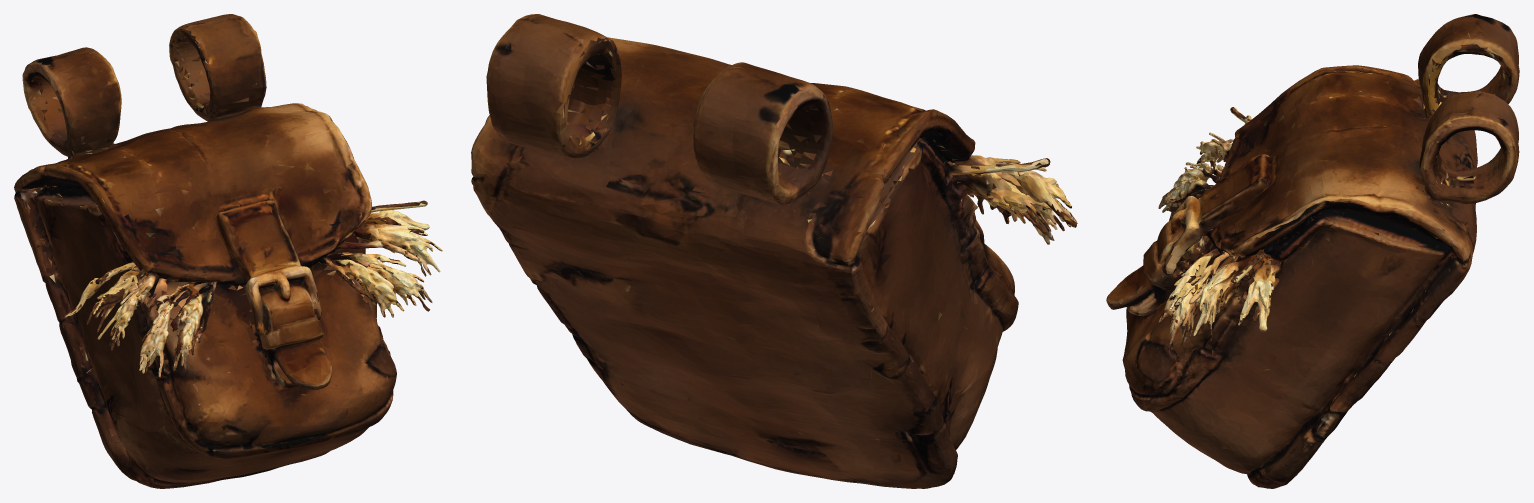
File: farmer-pouch.glb
The picture shows the model from 3 angles, left to right: view 1: azimuth 30°, elevation 25°; view 2: azimuth 150°, elevation 25°; view 3: azimuth 270°, elevation 25°; orthographic projection. The views are drawn at different scales.
Parts seen in each view (by area): view 1: geometry_0; view 2: geometry_0; view 3: geometry_0.
Boxes of the visible parts, left/top/right/bottom form: geometry_0: left=14, top=14, right=442, bottom=488; geometry_0: left=471, top=14, right=1077, bottom=488; geometry_0: left=1106, top=14, right=1519, bottom=488.
Size of the model in its own units: 2.15 by 2 by 1.94.
1 material, 1 textured.
